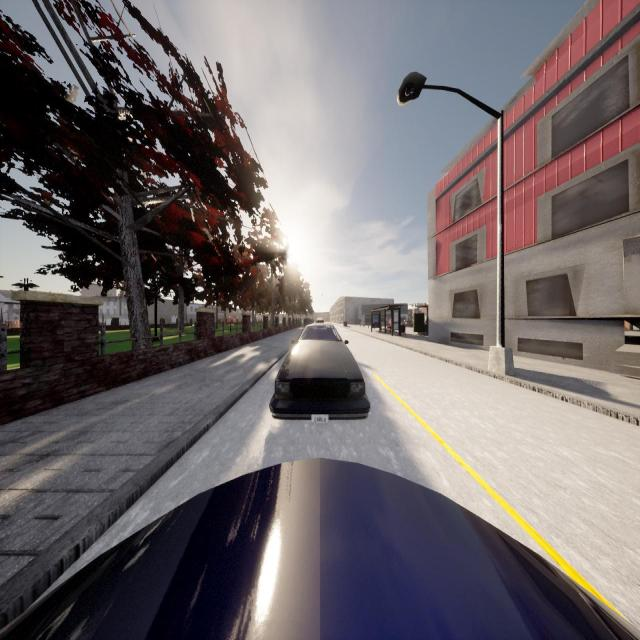Vehicle: (0, 457, 640, 639), (270, 323, 370, 419), (316, 317, 324, 324)
